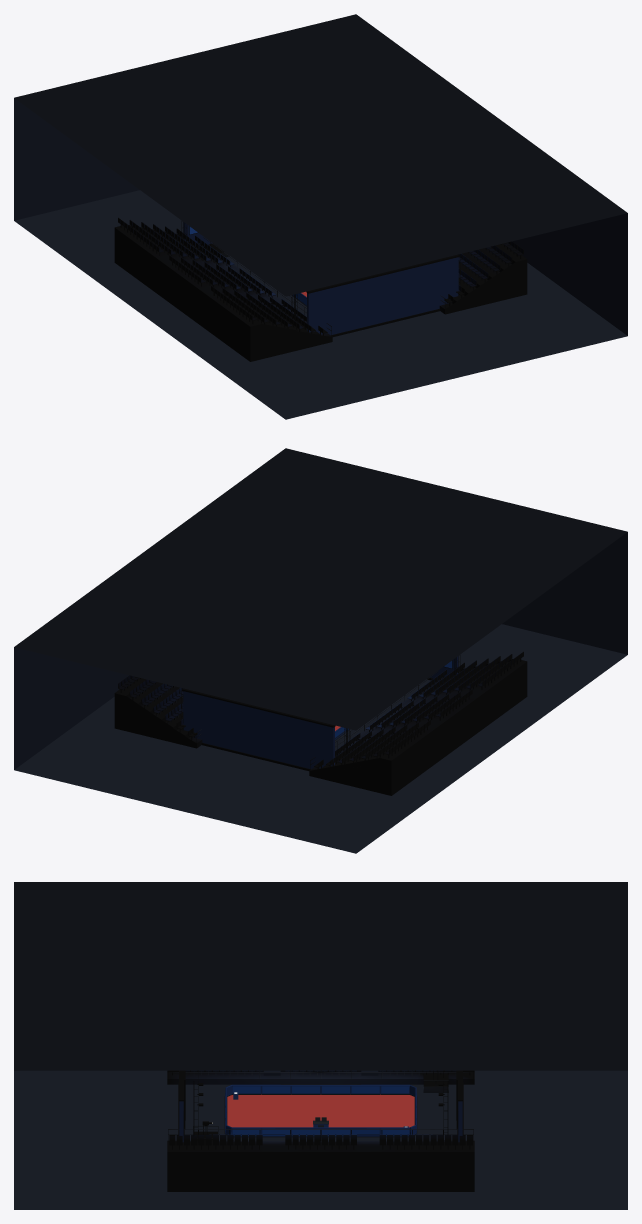
The model's file is arena.glb.
3 renders of one model, top to bottom at view 1: azimuth 30°, elevation 25°; view 2: azimuth 150°, elevation 25°; view 3: azimuth 270°, elevation 25°, orthographic. The views are drawn at different scales.
Parts seen in each view (by area): view 1: hall, floor, stands, backwall_home, backstage_home; view 2: hall, floor, stands, backwall_away, backstage_away; view 3: hall, floor, stands, barriers, backstage_away, backstage_home.
Boxes of the visible parts, <box> form: hall: <box>14,14,627,335</box>; floor: <box>14,190,627,419</box>; stands: <box>114,217,527,361</box>; backwall_home: <box>307,257,458,335</box>; backstage_home: <box>292,254,460,336</box>; hall: <box>14,448,627,769</box>; floor: <box>14,624,627,853</box>; stands: <box>114,651,527,795</box>; backwall_away: <box>183,691,334,769</box>; backstage_away: <box>181,688,349,770</box>; hall: <box>14,882,627,1070</box>; floor: <box>14,1070,627,1209</box>; stands: <box>167,1070,474,1191</box>; barriers: <box>224,1084,417,1137</box>; backstage_away: <box>423,1070,463,1142</box>; backstage_home: <box>178,1070,218,1142</box>.
Size of the model in its own units: 32 by 11 by 44.
